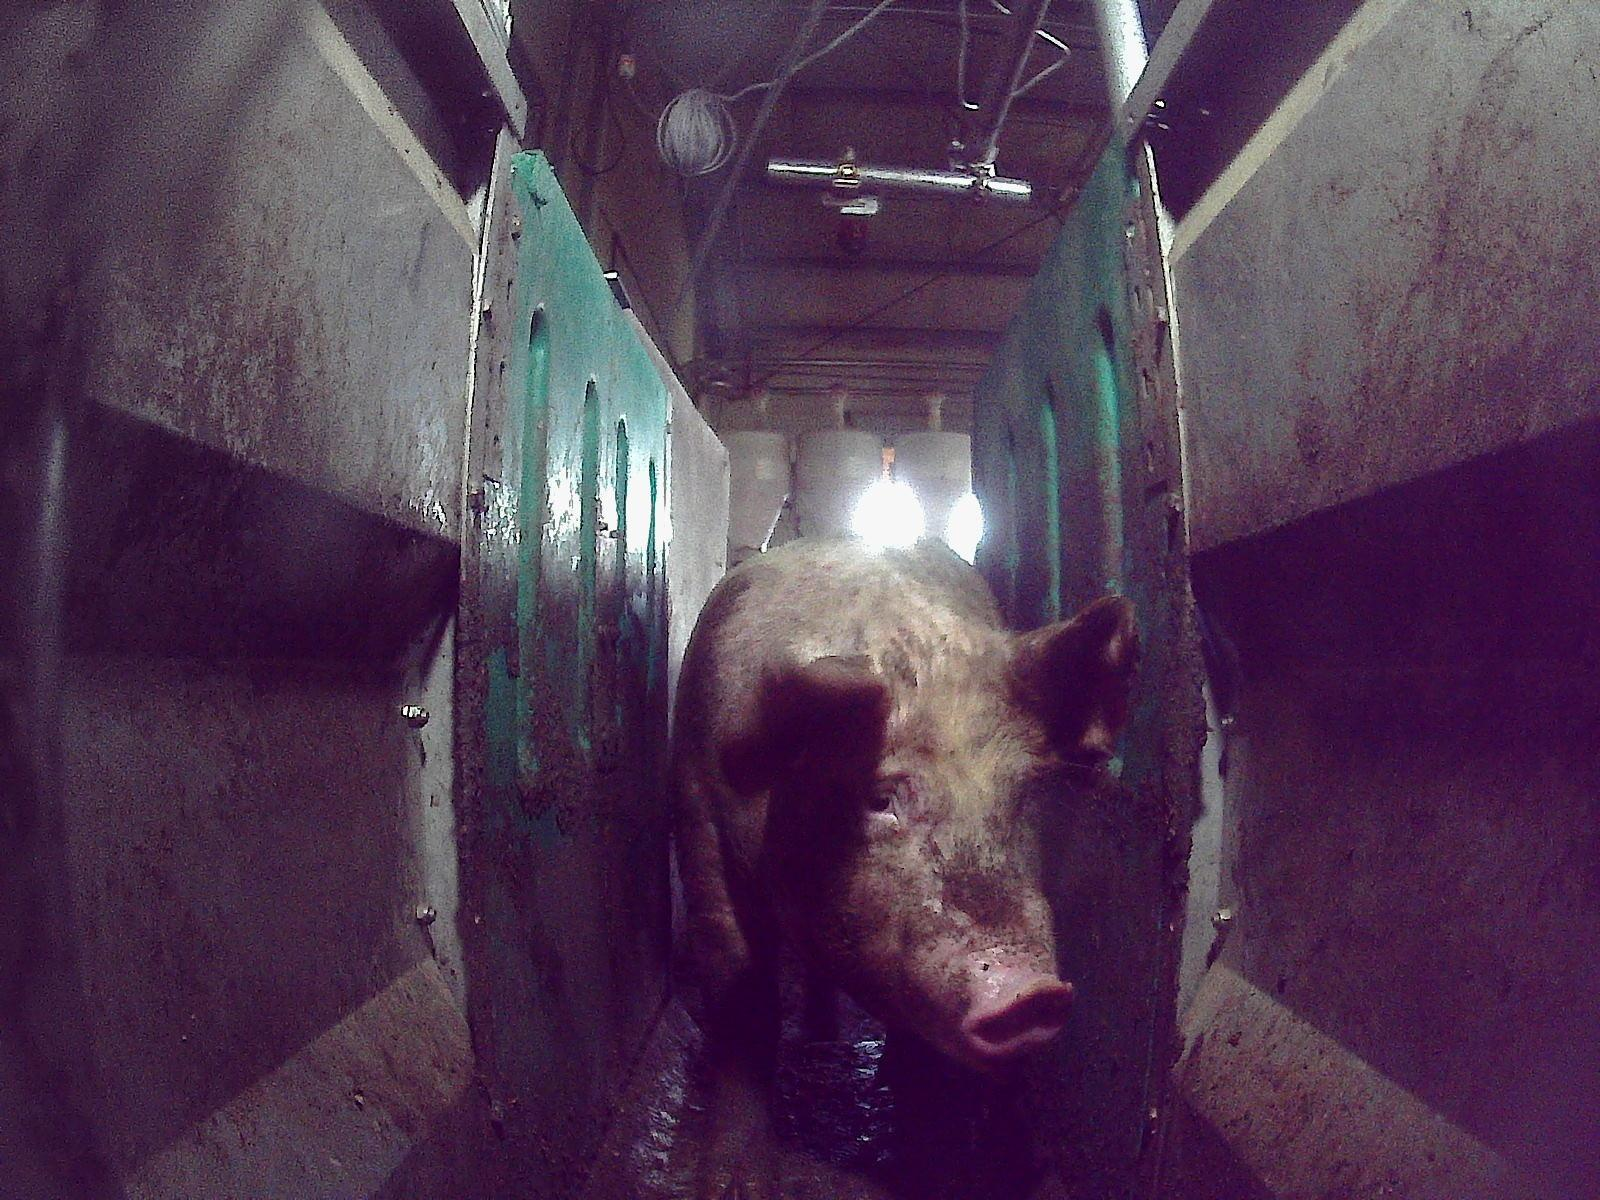Face: (779, 656, 1070, 1072)
